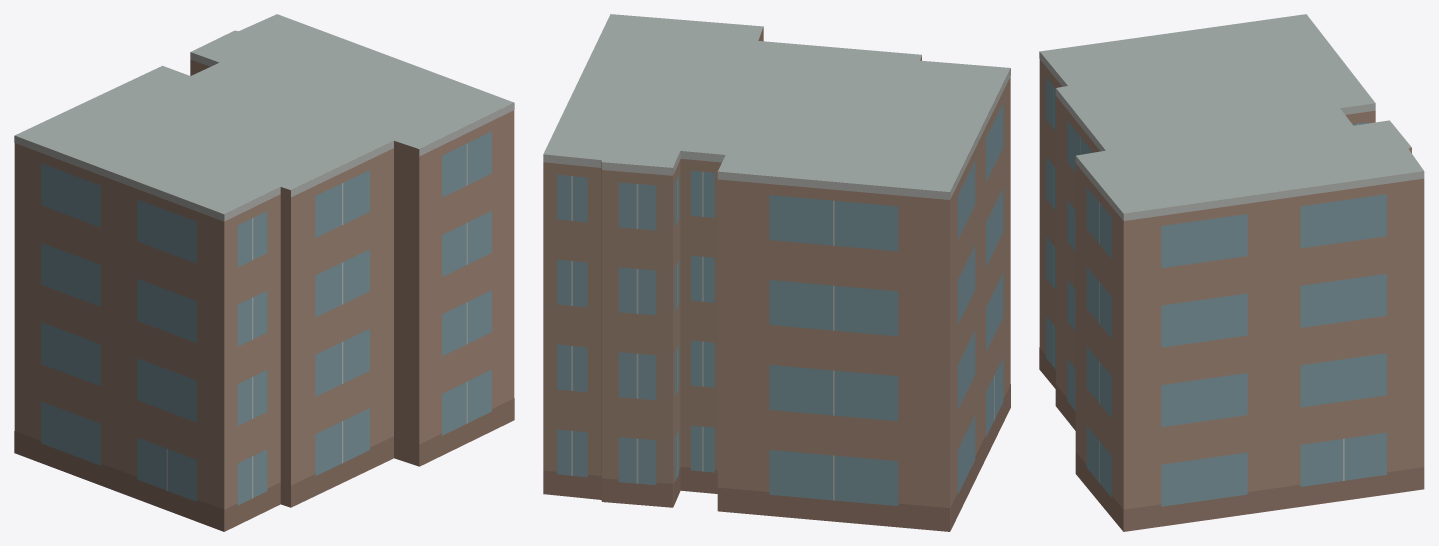
File: survey-upis-32493209.glb
The picture shows the model from 3 angles, left to right: view 1: azimuth 30°, elevation 25°; view 2: azimuth 150°, elevation 25°; view 3: azimuth 270°, elevation 25°; orthographic projection. The views are drawn at different scales.
Parts seen in each view (by area): view 1: survey-upis-32493209.tmp; view 2: survey-upis-32493209.tmp; view 3: survey-upis-32493209.tmp.
Boxes of the visible parts, x1=… form: survey-upis-32493209.tmp: x1=14, y1=14, x2=514, y2=531; survey-upis-32493209.tmp: x1=543, y1=14, x2=1010, y2=531; survey-upis-32493209.tmp: x1=1039, y1=14, x2=1424, y2=531.
Size of the model in its own units: 14.22 by 10.55 by 11.58.
